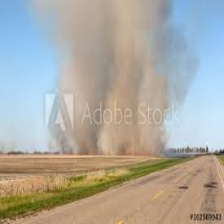smoke: (54, 1, 176, 152)
